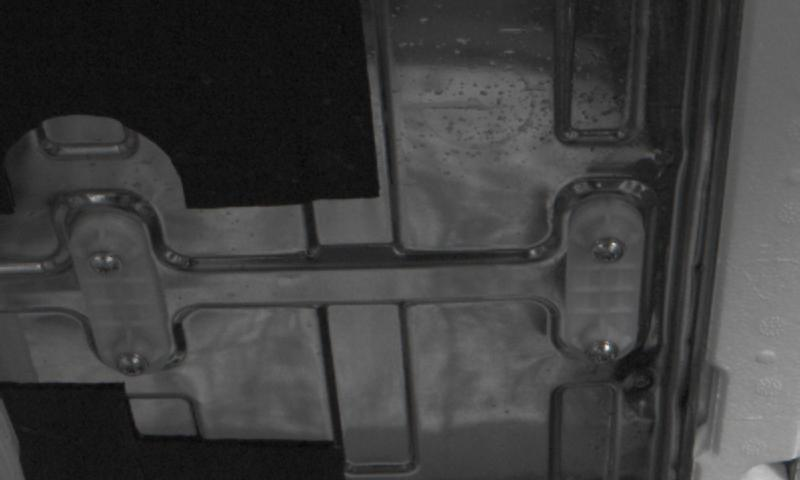vida-ok: (590, 228, 633, 273), (88, 242, 128, 287), (111, 343, 153, 383), (581, 331, 621, 369)
